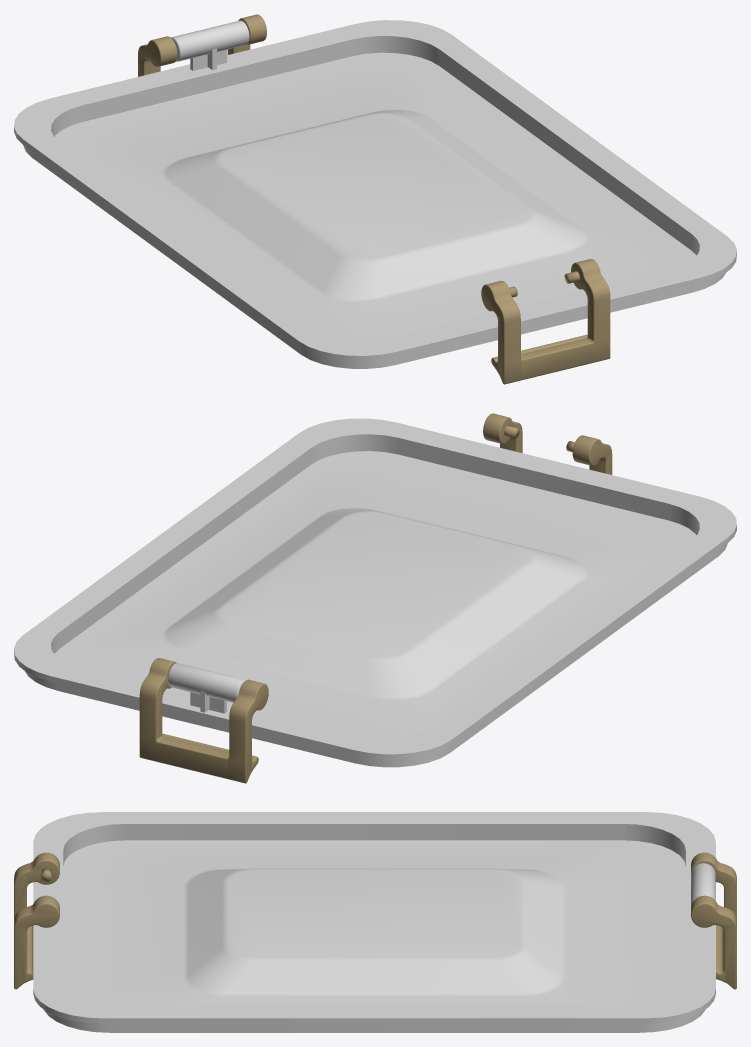
The model's file is 360-seperator.glb.
3 renders of one model, top to bottom at view 1: azimuth 30°, elevation 25°; view 2: azimuth 150°, elevation 25°; view 3: azimuth 270°, elevation 25°, orthographic.
Parts seen in each view (by area): view 1: Plane.013, Circle.010, Cylinder.011; view 2: Plane.013, Circle.010, Cylinder.011; view 3: Plane.013, Circle.010, Cylinder.011.
Boxes of the visible parts, left/top/right/bottom form: Plane.013: left=14, top=20, right=736, bottom=368; Circle.010: left=138, top=14, right=610, bottom=384; Cylinder.011: left=171, top=20, right=249, bottom=70; Plane.013: left=14, top=418, right=736, bottom=767; Circle.010: left=139, top=413, right=612, bottom=783; Cylinder.011: left=168, top=663, right=245, bottom=713; Plane.013: left=33, top=812, right=715, bottom=1032; Circle.010: left=14, top=852, right=736, bottom=989; Cylinder.011: left=691, top=863, right=715, bottom=906.
Bounding box in the file's own units: 4.43 × 0.8649 × 6.56.
